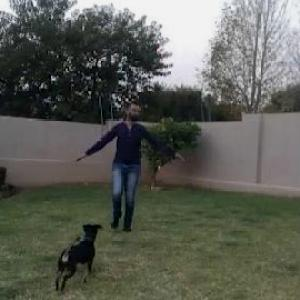land: (70, 93, 208, 260)
